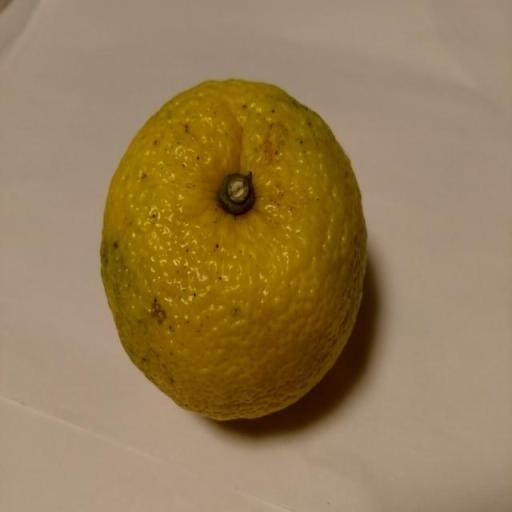fruit: (100, 80, 365, 419)
